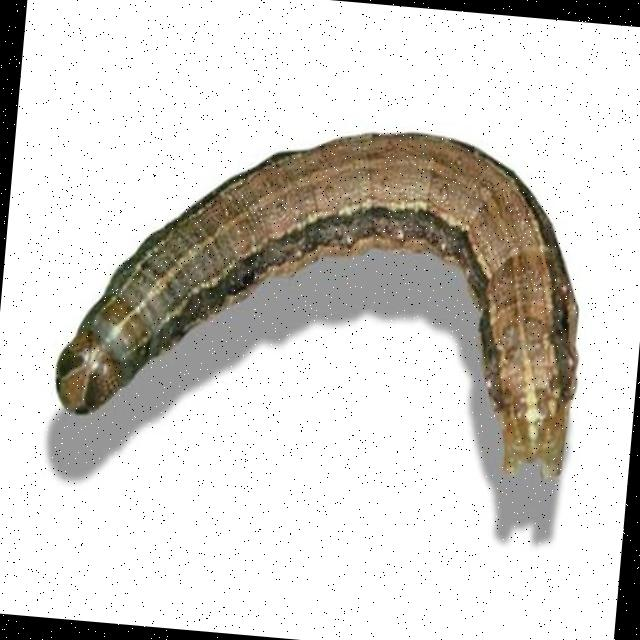worm: (49, 101, 599, 483)
